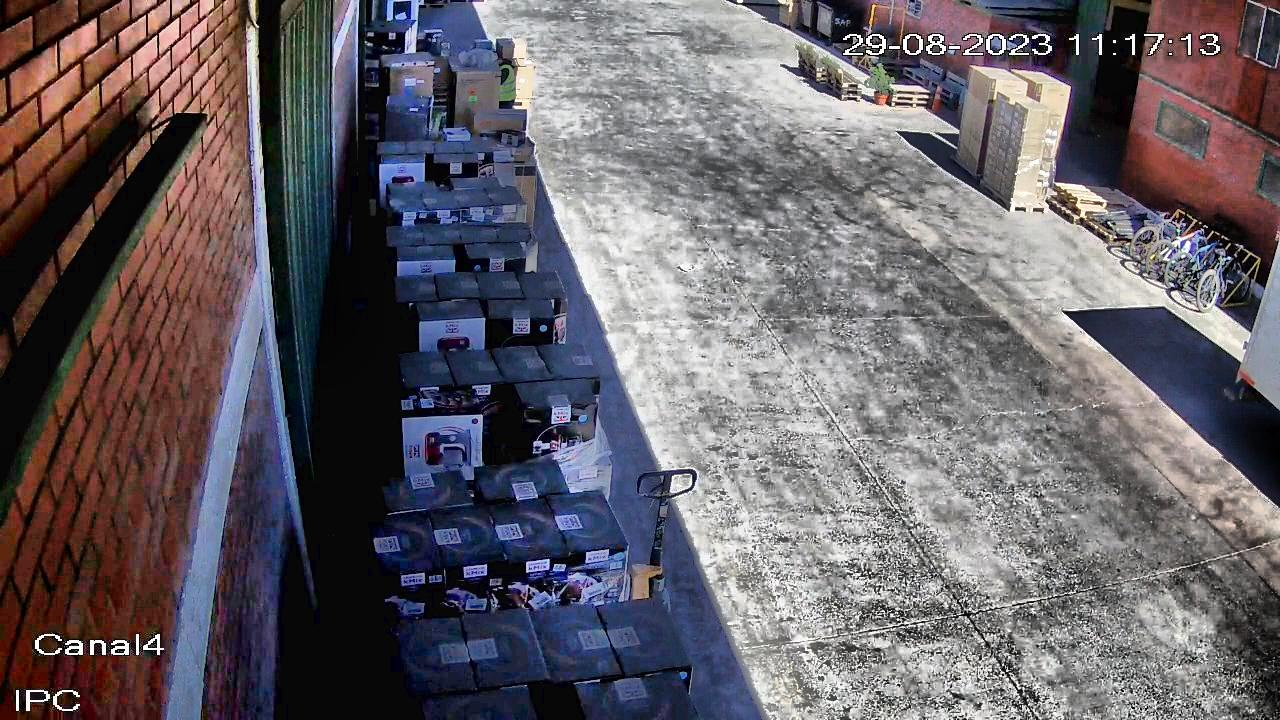con-chaleco: (493, 66, 522, 109)
persona: (487, 55, 537, 123)
sin-casco: (486, 47, 514, 68)
